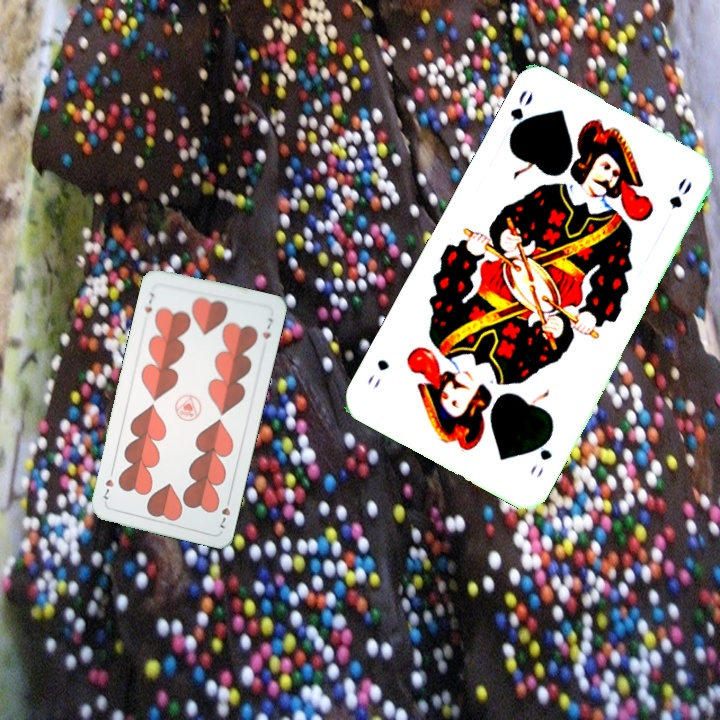GO: (505, 86, 536, 143), (525, 429, 555, 481)
H7: (215, 493, 233, 531), (140, 288, 158, 316)
